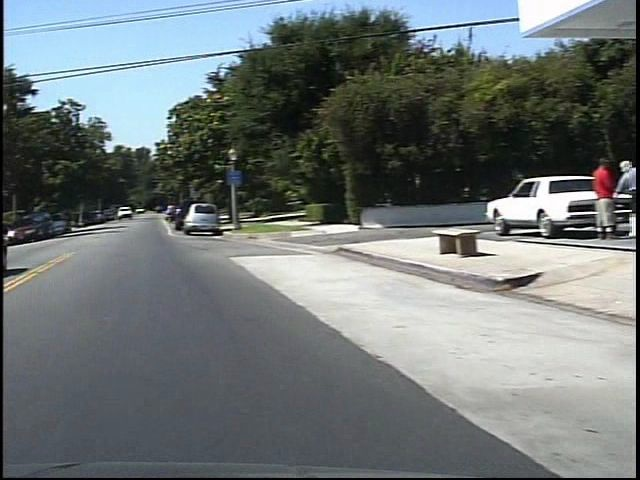person: (600, 158, 635, 244), (580, 157, 608, 247)
